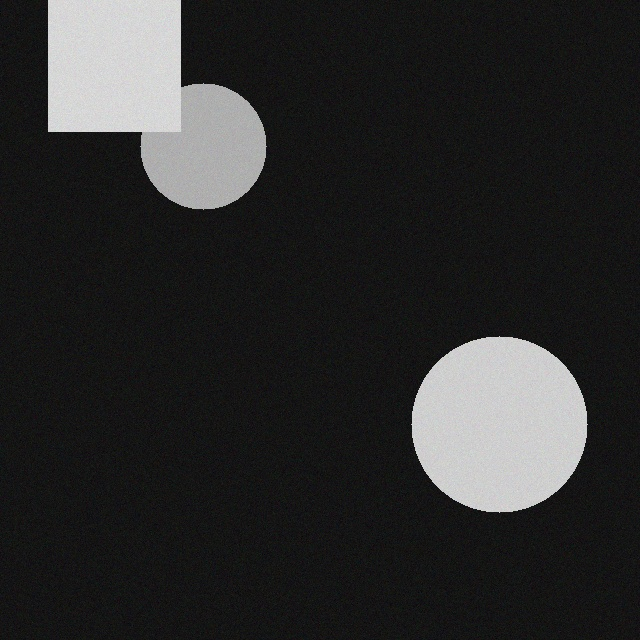circle: (423, 344, 599, 520), (152, 91, 278, 217)
square: (60, 7, 192, 139)
